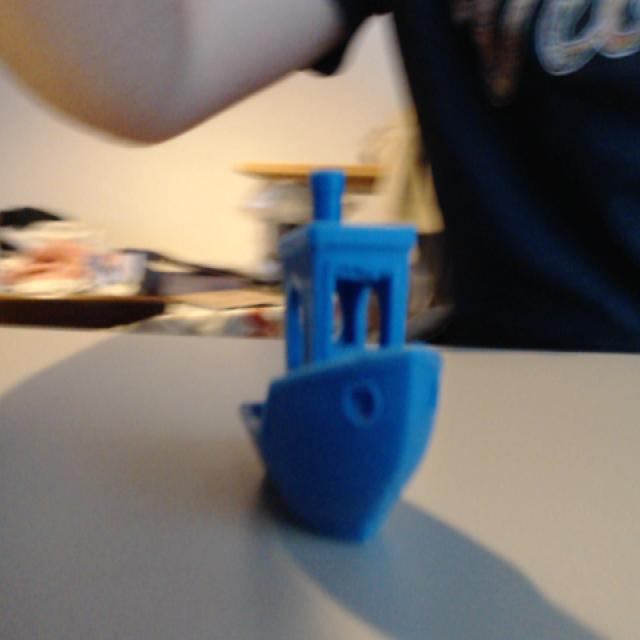benchy: (237, 165, 445, 544)
